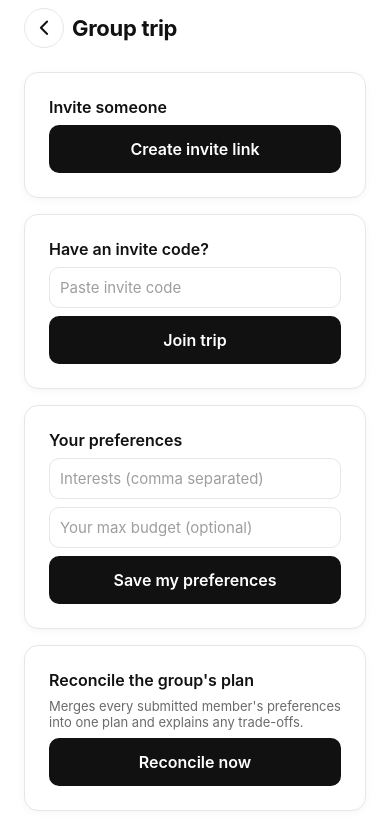
Test: GroupInviteScreen › creates a real invite and displays the token
The width and height of the screenshot is (390, 836).
Click the button with test id "create-invite-button" at (195, 149), box [49,125,341,173]
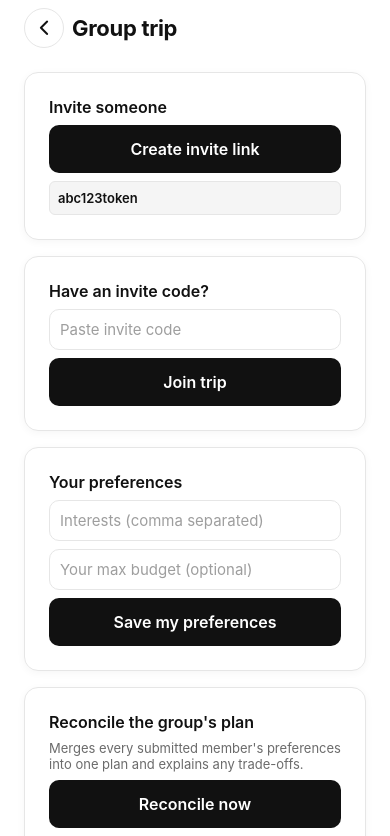
Now the text "abc123token" is shown, box [49,181,341,215]
